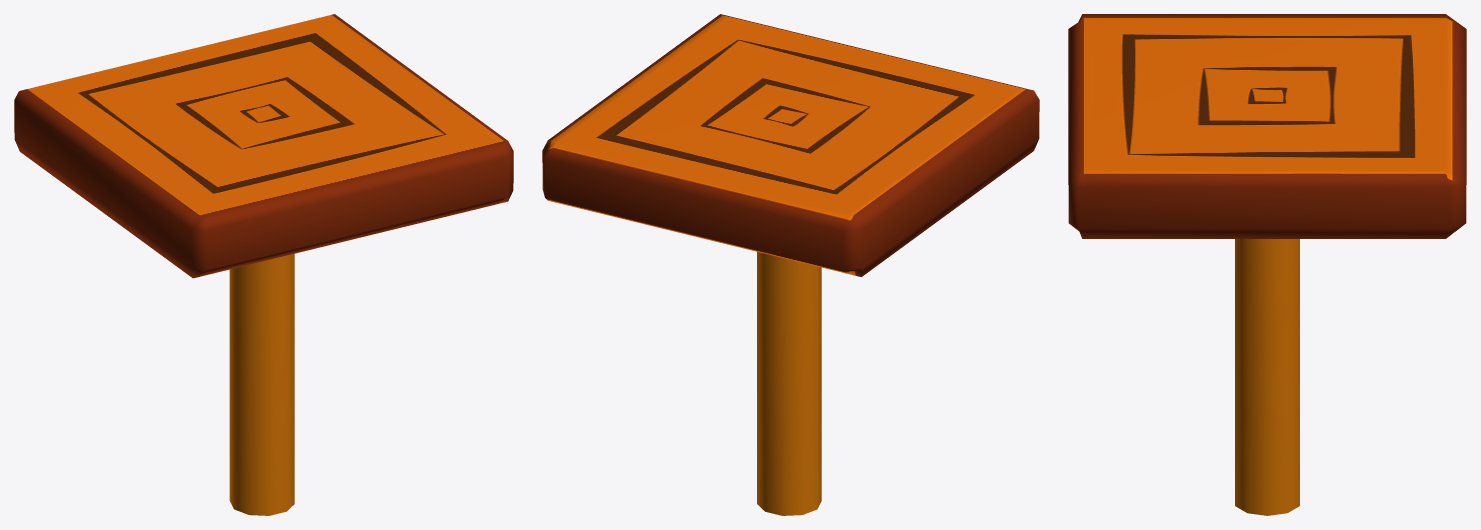
The model's file is BlockWoodWithBarSmall.fbx.
3 renders of one model, left to right at view 1: azimuth 30°, elevation 25°; view 2: azimuth 150°, elevation 25°; view 3: azimuth 270°, elevation 25°, orthographic. The views are drawn at different scales.
Parts seen in each view (by area): view 1: BlockWood2, BlockWood1; view 2: BlockWood2, BlockWood1; view 3: BlockWood2, BlockWood1.
Boxes of the visible parts, x1,y1,x2,y2 form: BlockWood2: (14,14,513,278); BlockWood1: (229,254,294,515); BlockWood2: (542,14,1039,276); BlockWood1: (757,252,821,515); BlockWood2: (1068,14,1466,238); BlockWood1: (1235,239,1299,515).
Bounding box in the file's own units: 1.57 × 1.8 × 1.6.
1 material, 1 textured.
